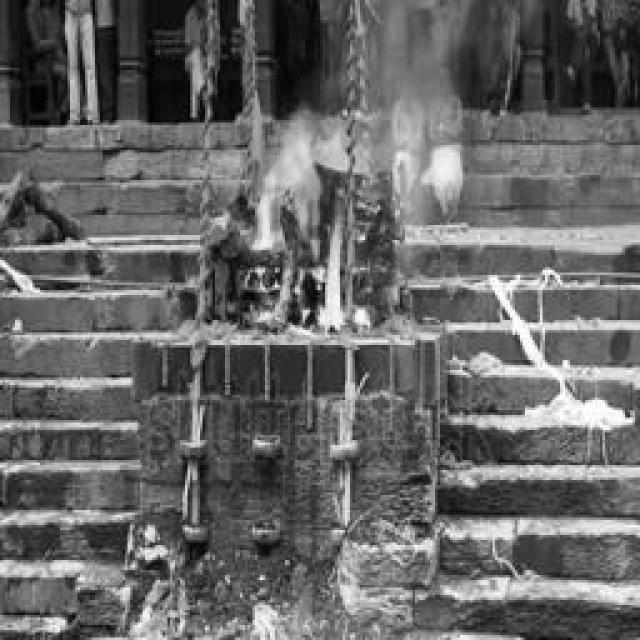Fire: (253, 98, 349, 332)
